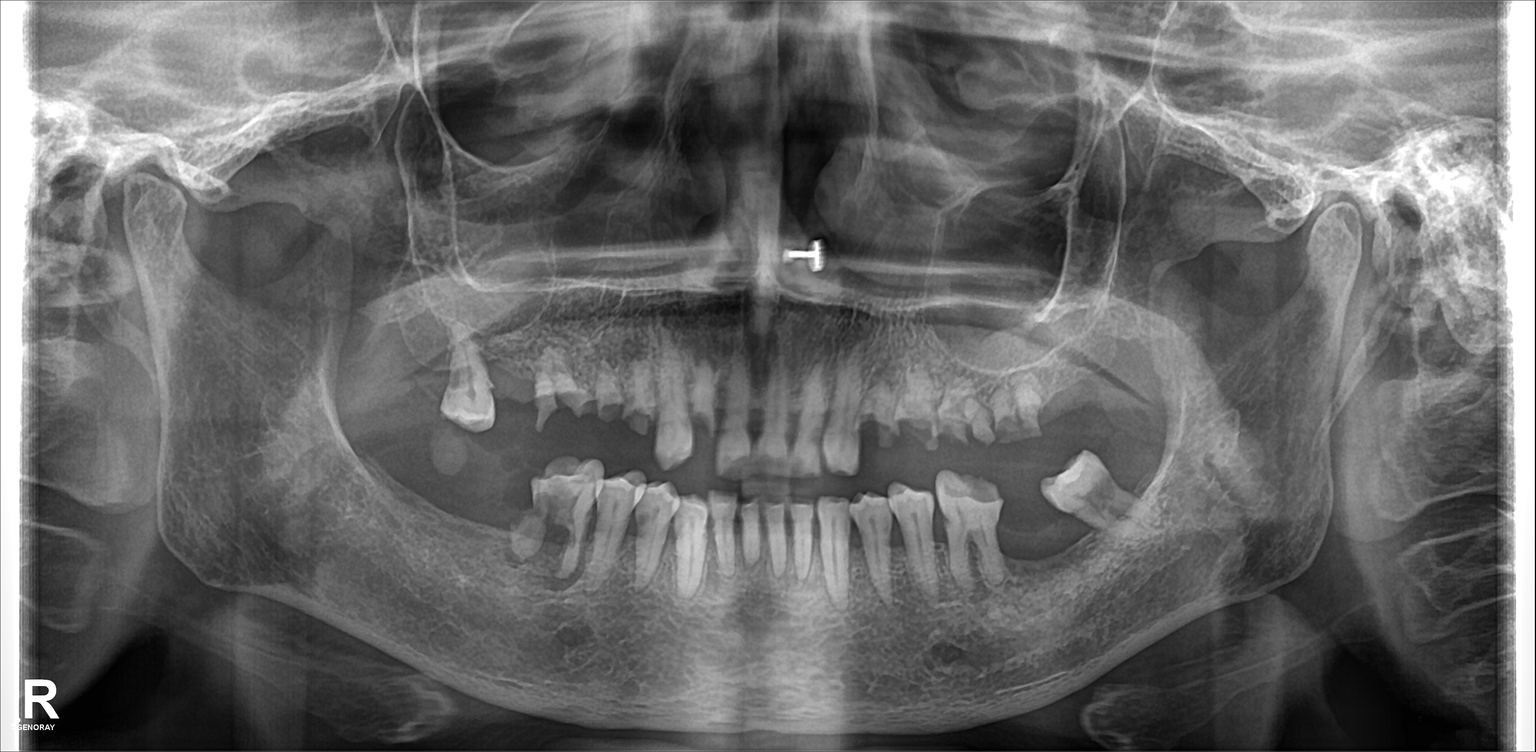Dental Caries: (529, 490, 578, 529)
Impacted Third Molar: (1048, 455, 1150, 527)
Missing Tooth: (395, 300, 445, 426), (1117, 322, 1165, 445), (453, 454, 504, 560), (341, 311, 389, 419), (1065, 352, 1117, 450), (350, 439, 402, 521), (1006, 480, 1049, 576), (410, 450, 453, 542), (492, 337, 530, 434)
Retained Root: (1013, 359, 1065, 442), (901, 361, 942, 462), (538, 346, 584, 432), (946, 365, 985, 456), (980, 365, 1021, 451), (860, 367, 897, 459), (587, 348, 620, 435), (620, 359, 653, 435), (693, 365, 715, 447)
